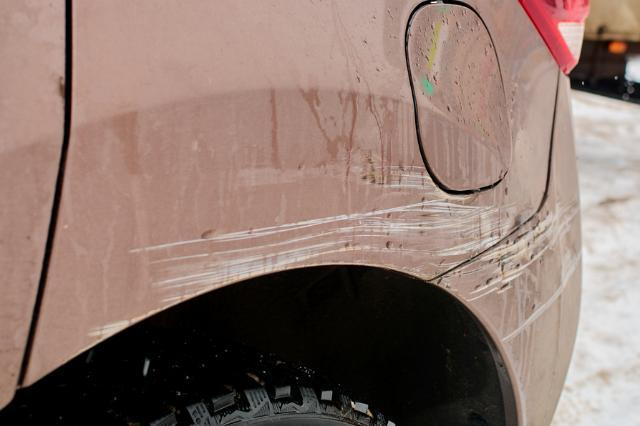Bumper: (421, 166, 592, 426)
Fender: (124, 69, 548, 275)
